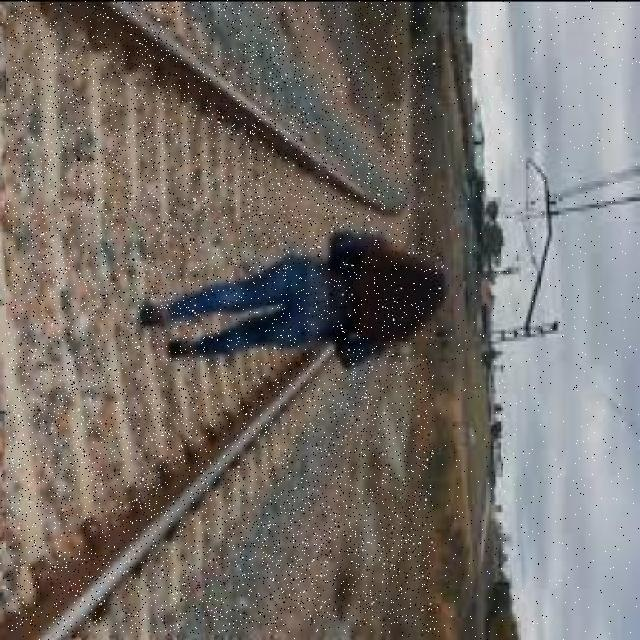danger: (146, 234, 443, 358)
rail: (8, 0, 434, 633)
